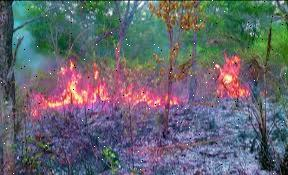fire: (29, 78, 188, 112), (207, 51, 250, 104)
